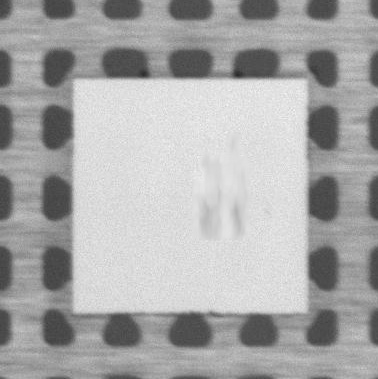DIE_INK: (195, 133, 252, 247)
